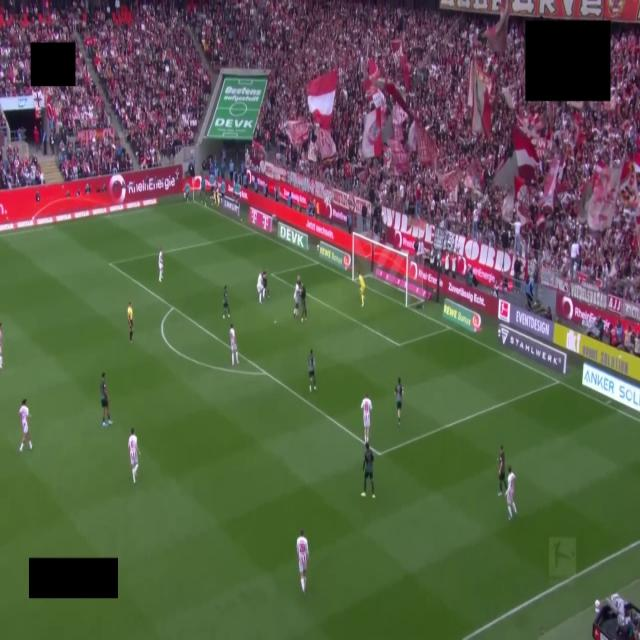player: (361, 442, 375, 498), (296, 530, 308, 593), (19, 400, 32, 452), (100, 372, 112, 427), (128, 428, 139, 483), (506, 466, 517, 519), (361, 395, 372, 443), (395, 377, 403, 426), (498, 446, 506, 495), (230, 324, 238, 366), (308, 350, 316, 391), (294, 276, 301, 317), (222, 285, 230, 319), (300, 284, 307, 321), (358, 272, 365, 306), (257, 272, 264, 303), (262, 271, 269, 299), (158, 248, 163, 281), (0, 323, 2, 369)
referee: (127, 302, 133, 343)
